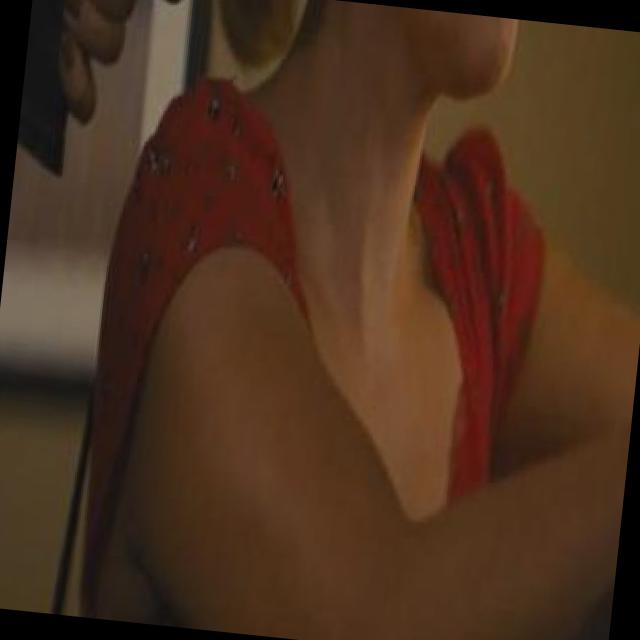Guns: (16, 0, 337, 193)
